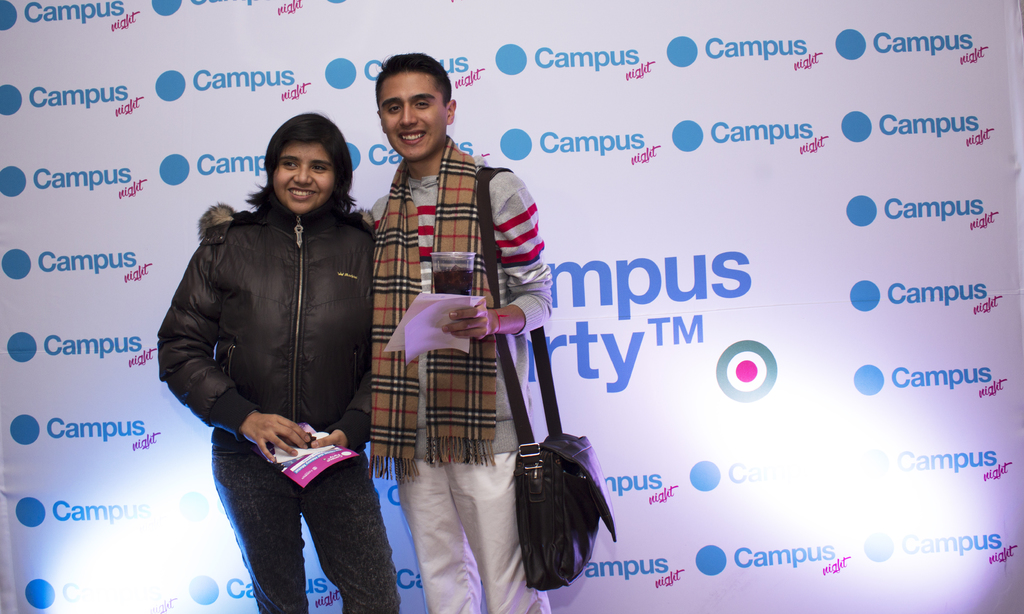Human-face: (375, 73, 444, 159), (273, 140, 334, 213)
